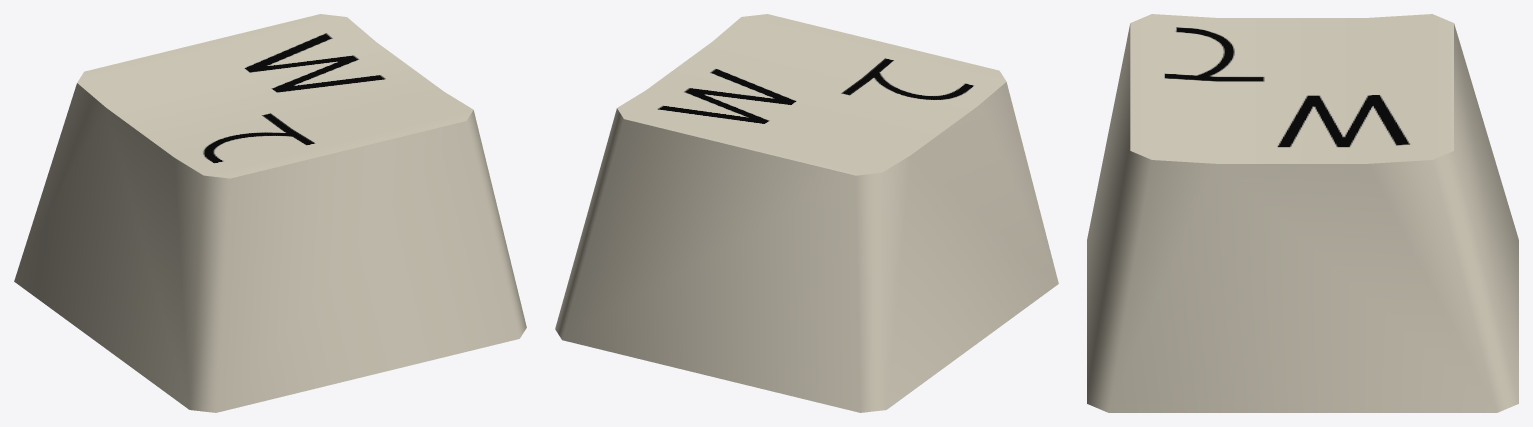
The model's file is keytop.fbx.
3 views of the same model, side by side, from view 1: azimuth 30°, elevation 25°; view 2: azimuth 150°, elevation 25°; view 3: azimuth 270°, elevation 25° (orthographic). The views are drawn at different scales.
Visible parts, largest first — view 1: obj1; view 2: obj1; view 3: obj1.
Boxes of the visible parts, x1,y1,x2,y2 form: obj1: (14, 14, 526, 412); obj1: (555, 14, 1058, 412); obj1: (1087, 14, 1518, 412).
Bounding box in the file's own units: 100 × 60 × 100.
